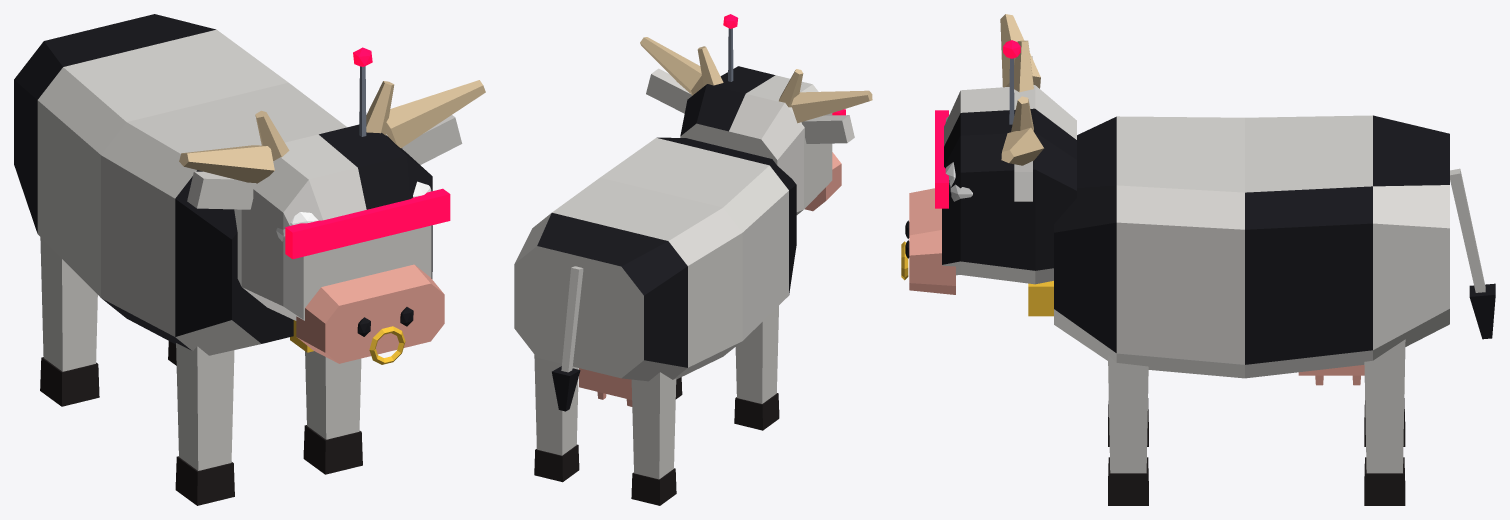
The model's file is cow.glb.
3 views of the same model, side by side, from view 1: azimuth 30°, elevation 25°; view 2: azimuth 150°, elevation 25°; view 3: azimuth 270°, elevation 25° (orthographic). The views are drawn at different scales.
Parts seen in each view (by area): view 1: BodyMesh, Skull, Muzzle, LegFLMesh, LegBLMesh, Visor, LegFRMesh, BullHorn1, BullHorn-1, Ear-1, LegBLHoof, LegFLHoof (+5 smaller); view 2: BodyMesh, Skull, LegBLMesh, LegFLMesh, LegBRMesh, BullHorn-1, BullHorn1, Ear-1, TailMesh, LegBRHoof, LegFLHoof, LegBLHoof (+6 smaller); view 3: BodyMesh, Skull, LegBRMesh, LegFRMesh, Muzzle, TailMesh, LegBRHoof, LegFRHoof, BullHorn1, Visor, TailTuft, BullHorn-1 (+3 smaller).
Boxes of the visible parts, x1,y1,x2,y2 form: BodyMesh: [14, 14, 346, 355]; Skull: [234, 124, 432, 320]; Muzzle: [296, 264, 444, 363]; LegFLMesh: [176, 343, 234, 470]; LegBLMesh: [40, 237, 97, 371]; Visor: [285, 188, 450, 259]; LegFRMesh: [305, 351, 361, 439]; BullHorn1: [386, 80, 485, 147]; BullHorn-1: [179, 145, 274, 183]; Ear-1: [187, 171, 256, 209]; LegBLHoof: [40, 357, 99, 406]; LegFLHoof: [175, 456, 234, 505]; BodyMesh: [514, 137, 796, 381]; Skull: [680, 66, 832, 214]; LegBLMesh: [631, 372, 676, 479]; LegFLMesh: [735, 306, 778, 403]; LegBRMesh: [534, 354, 578, 455]; BullHorn-1: [791, 90, 872, 123]; BullHorn1: [640, 37, 703, 95]; Ear-1: [801, 115, 854, 143]; TailMesh: [561, 266, 583, 372]; LegBRHoof: [534, 444, 579, 482]; LegFLHoof: [734, 393, 779, 430]; LegBLHoof: [631, 468, 676, 505]; BodyMesh: [1054, 115, 1449, 378]; Skull: [942, 85, 1076, 284]; LegBRMesh: [1364, 339, 1405, 473]; LegFRMesh: [1108, 355, 1148, 473]; Muzzle: [909, 188, 955, 294]; TailMesh: [1450, 168, 1485, 292]; LegBRHoof: [1364, 457, 1405, 505]; LegFRHoof: [1108, 457, 1148, 505]; BullHorn1: [1001, 127, 1043, 165]; Visor: [935, 110, 948, 208]; TailTuft: [1469, 283, 1495, 339]; BullHorn-1: [1000, 14, 1040, 88].
Bounding box in the file's own units: 1.42 × 2.09 × 2.55.
